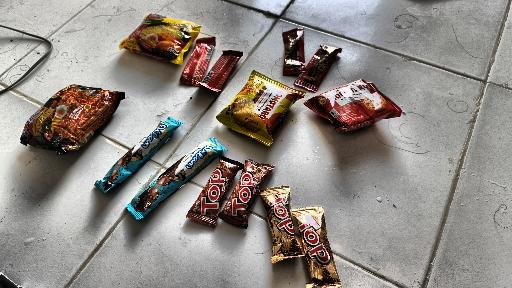dilan: (82, 116, 215, 211)
momotaro: (305, 70, 421, 143), (224, 69, 295, 151)
top: (207, 154, 362, 279)
